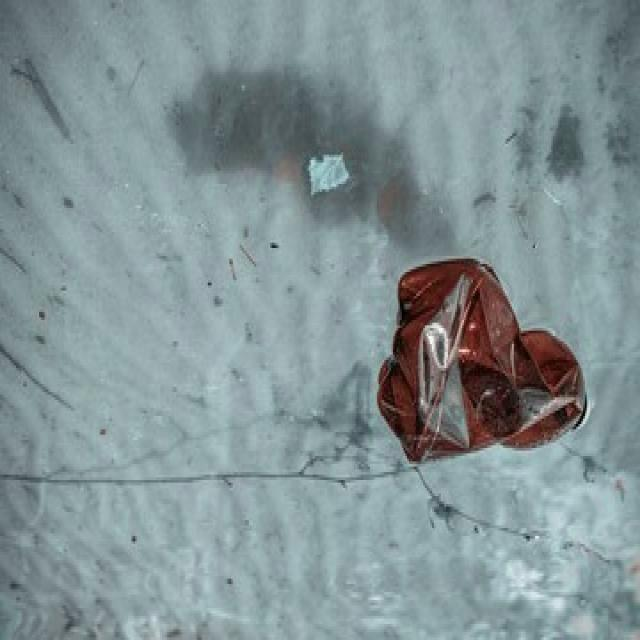Trash: (376, 261, 592, 469)
